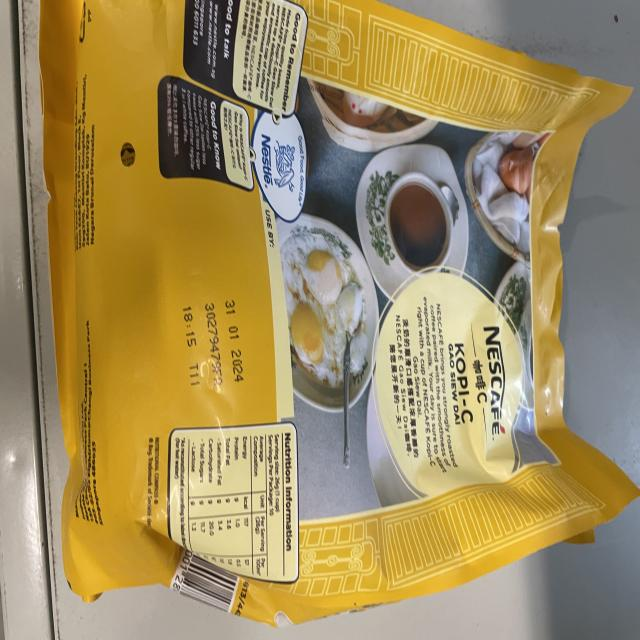object_name: (42, 6, 595, 612)
